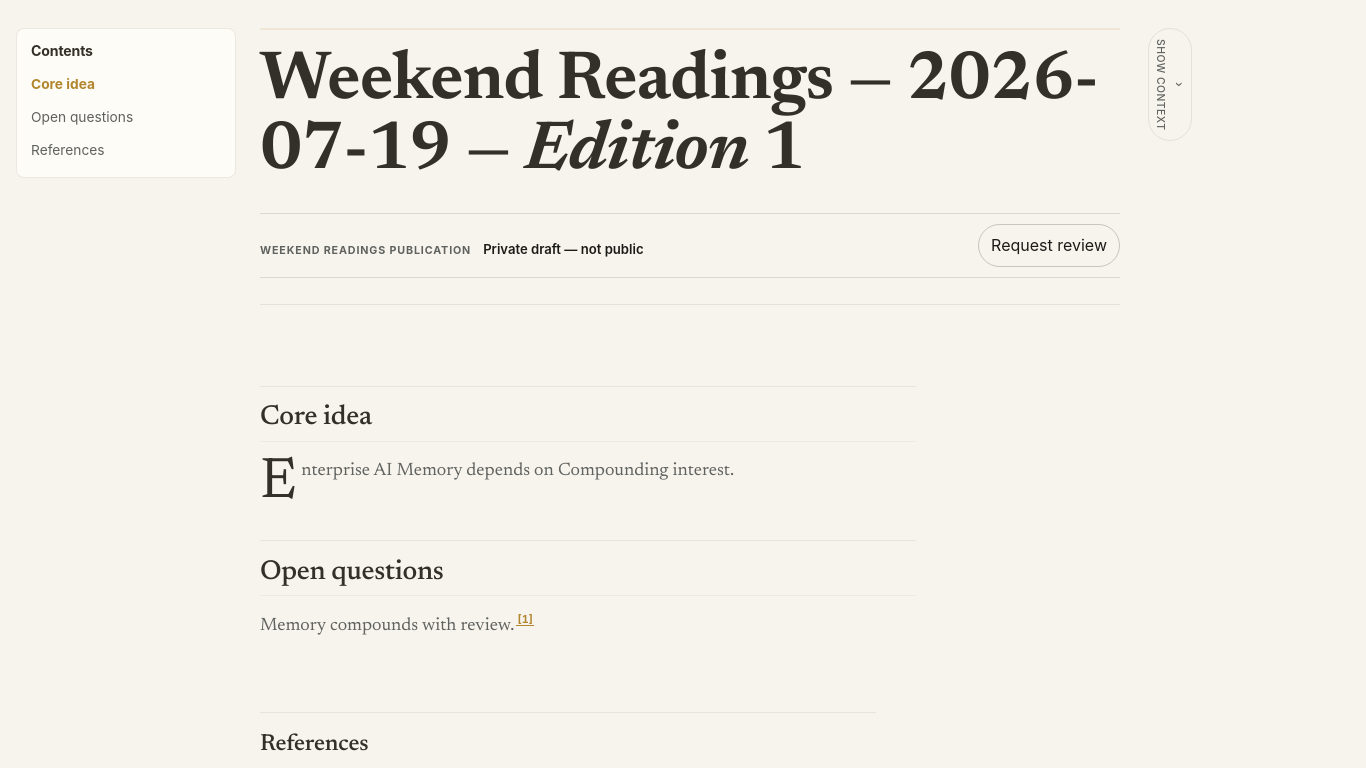
Test: WikiPageReadView › uses revision-bound Weekend Readings controls and suppresses generic sharing
The image size is (1366, 768).
expect the message reads "Private draft — not public": met, box [483, 241, 644, 257]
Click the button "Request review".
click(1049, 245)  # box [978, 224, 1120, 266]
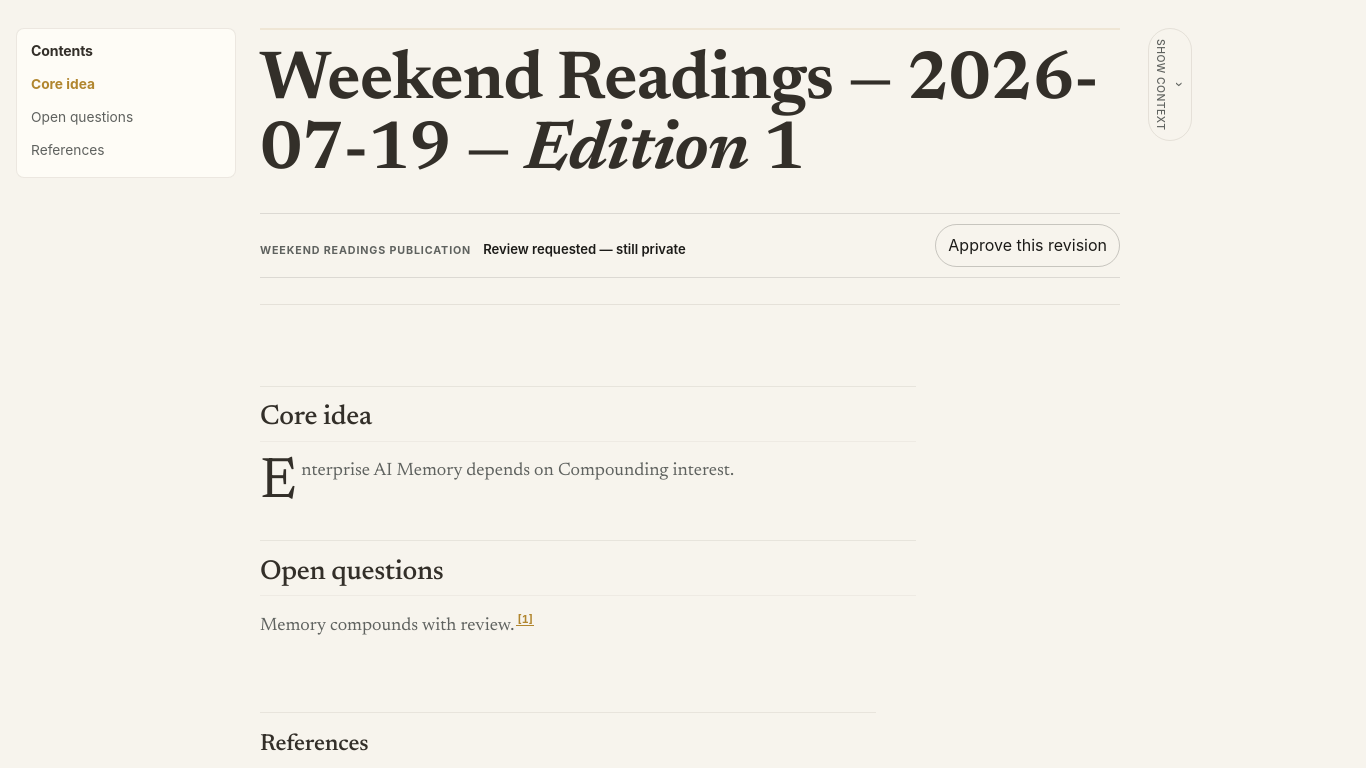
expect the text "Review requested — still private" is shown: met, box [483, 239, 686, 260]
